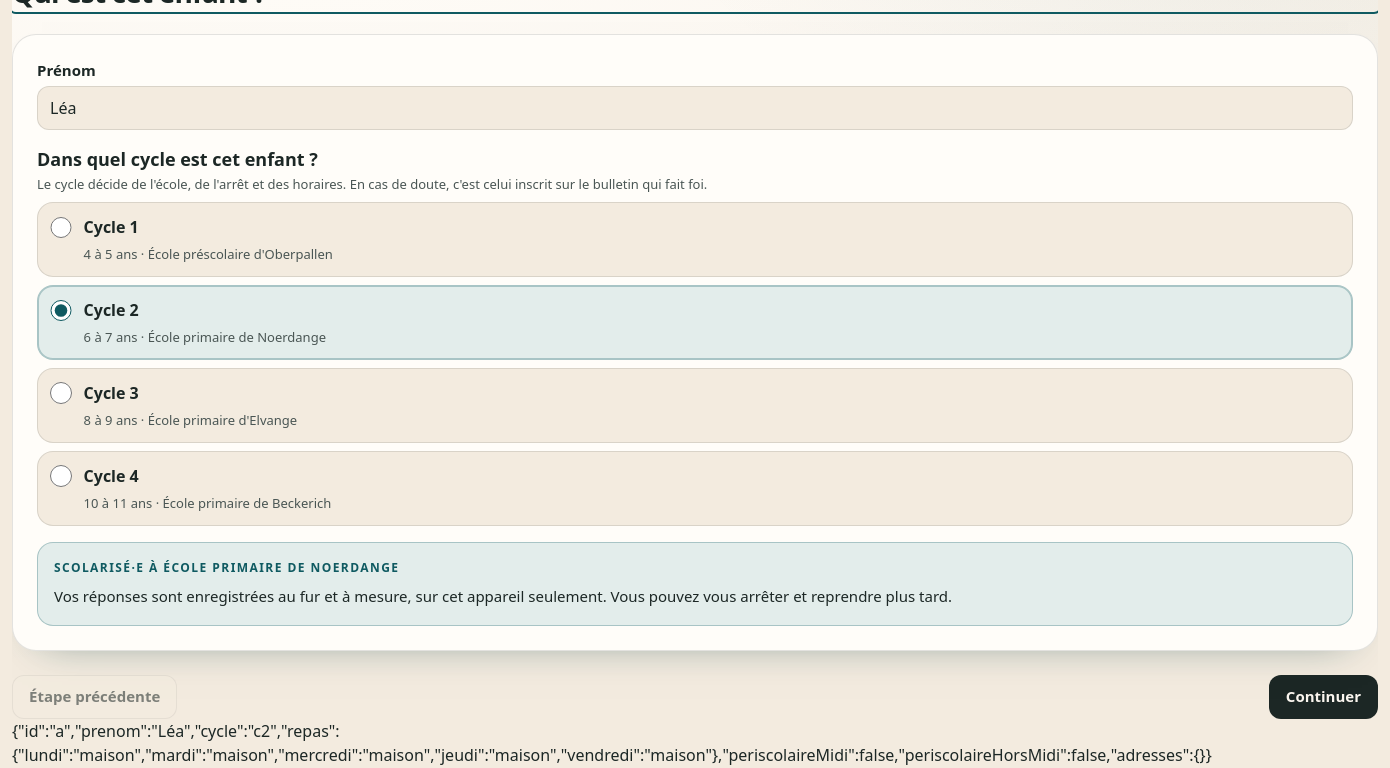
it: forme du parcours › récapitule les réponses avant les trajets, et ne répète pas les actions de la fiche
This screenshot has width=1390, height=768.
(page scrolled)
Click the button "Continuer". click: click(1323, 697)
box: top-left (1269, 675), bottom-right (1378, 719)
(page scrolled)
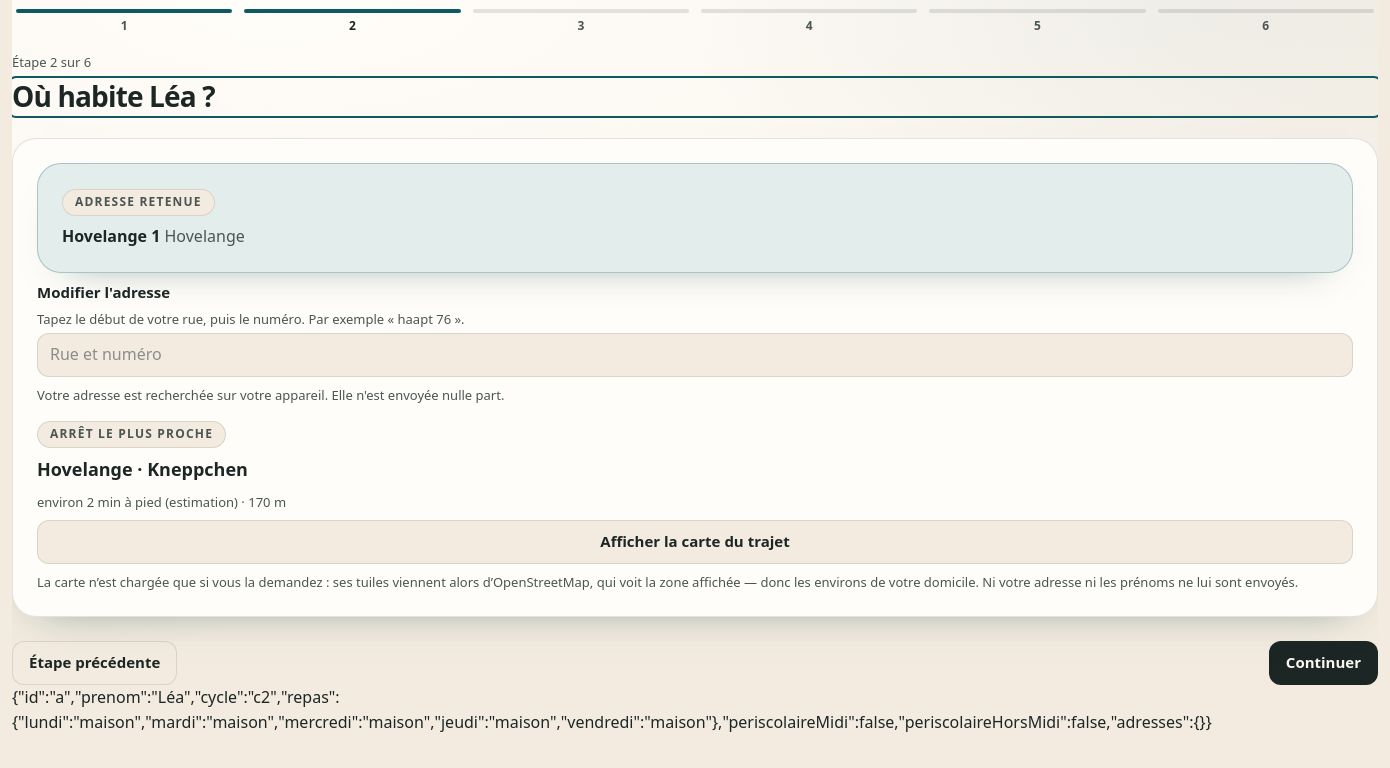
Click the button "Continuer". click: click(1323, 663)
box: top-left (1269, 641), bottom-right (1378, 685)
(page scrolled)
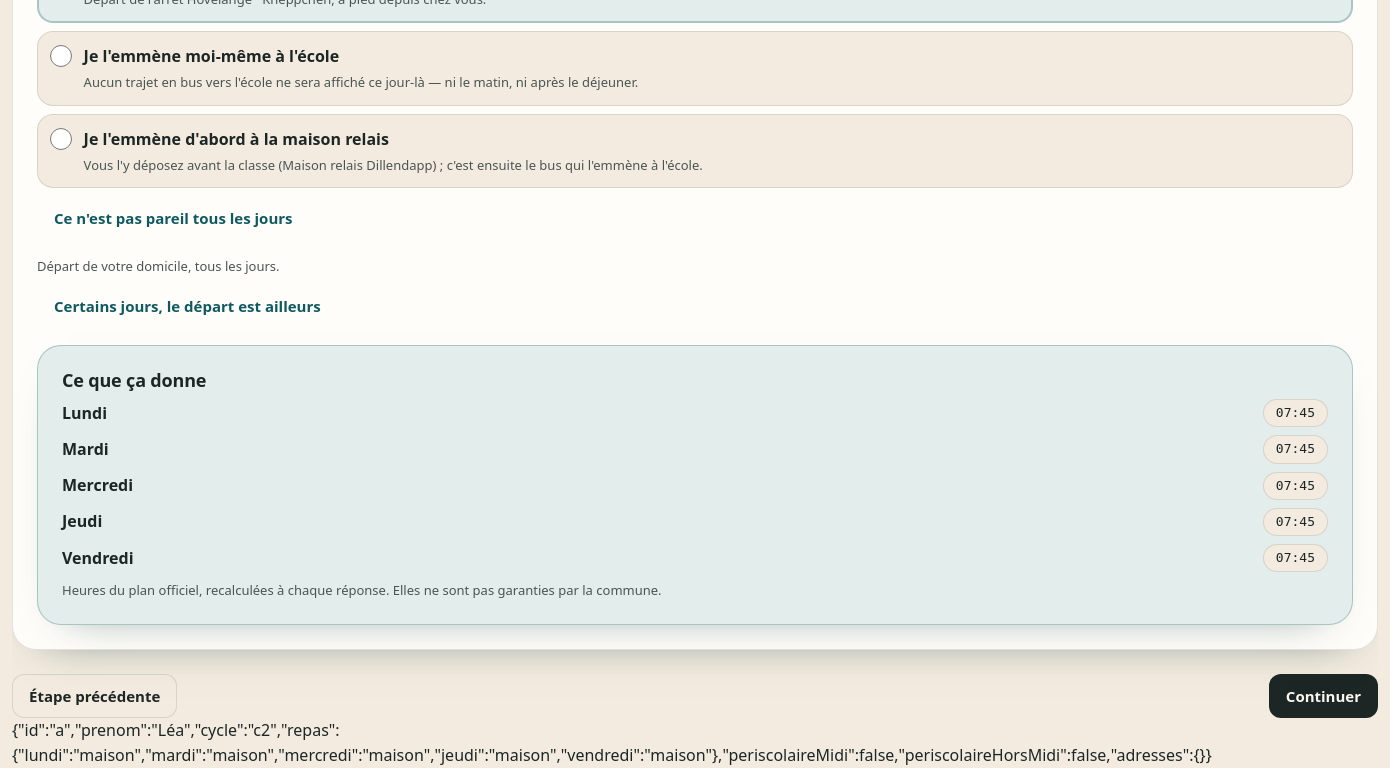
Click the button "Continuer". click: click(1323, 696)
box: top-left (1269, 674), bottom-right (1378, 718)
(page scrolled)
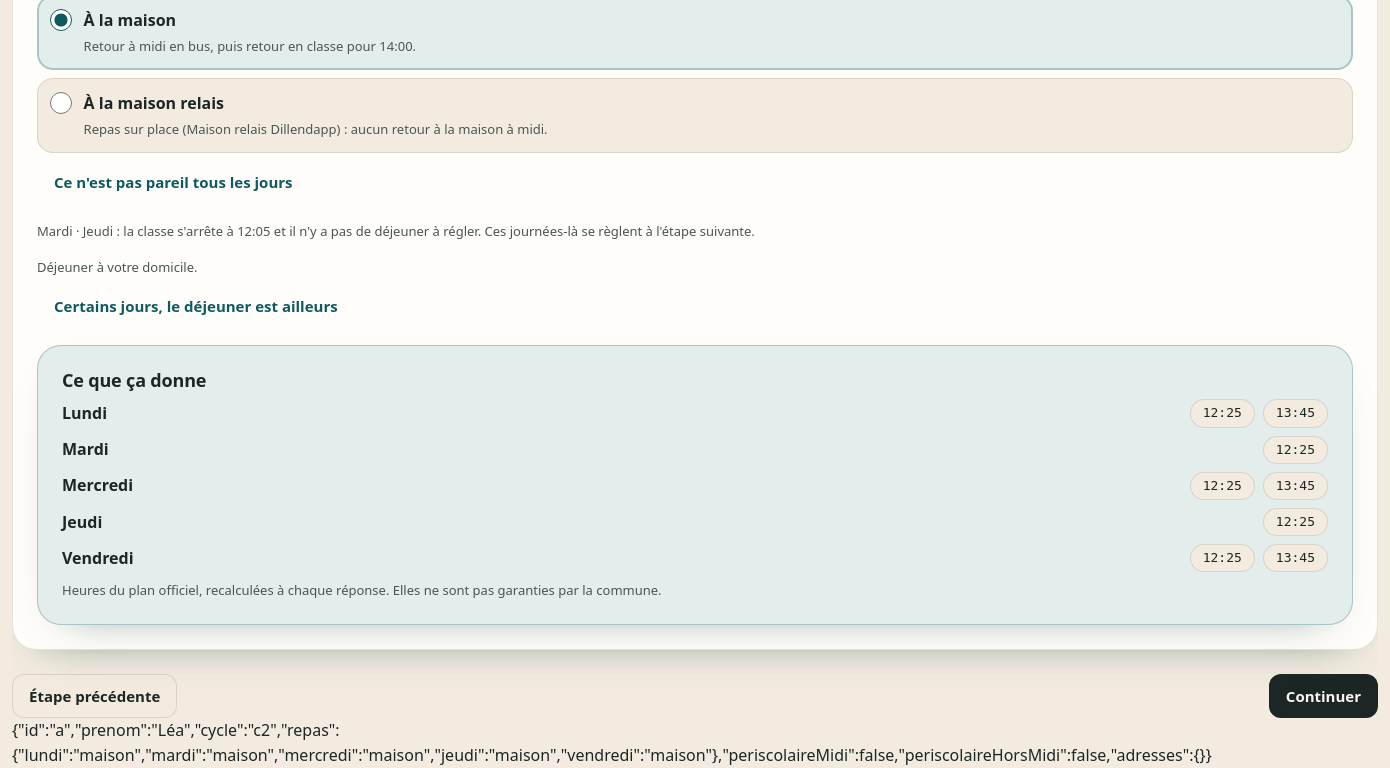
Click the button "Continuer". click: click(1323, 696)
box: top-left (1269, 674), bottom-right (1378, 718)
(page scrolled)
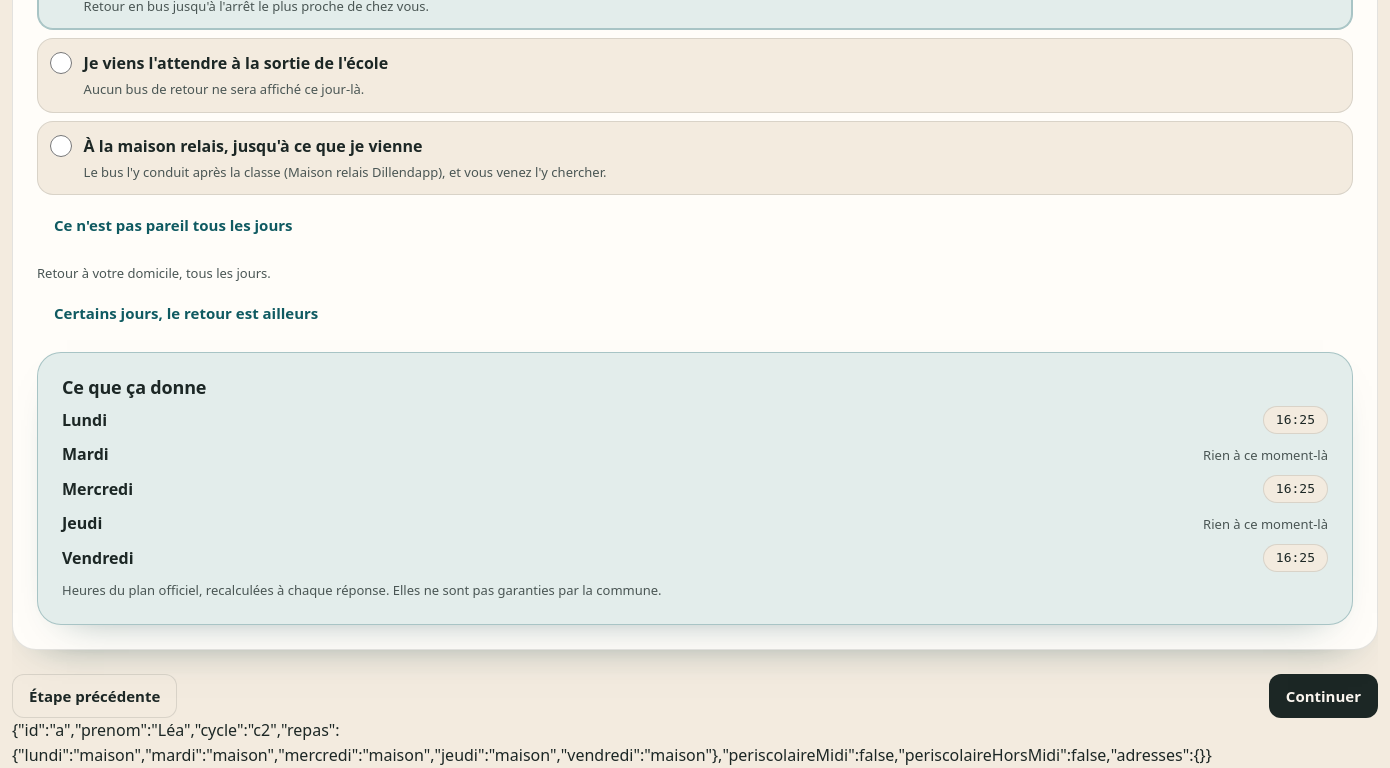
Click the button "Continuer". click: click(1323, 696)
box: top-left (1269, 674), bottom-right (1378, 718)
(page scrolled)
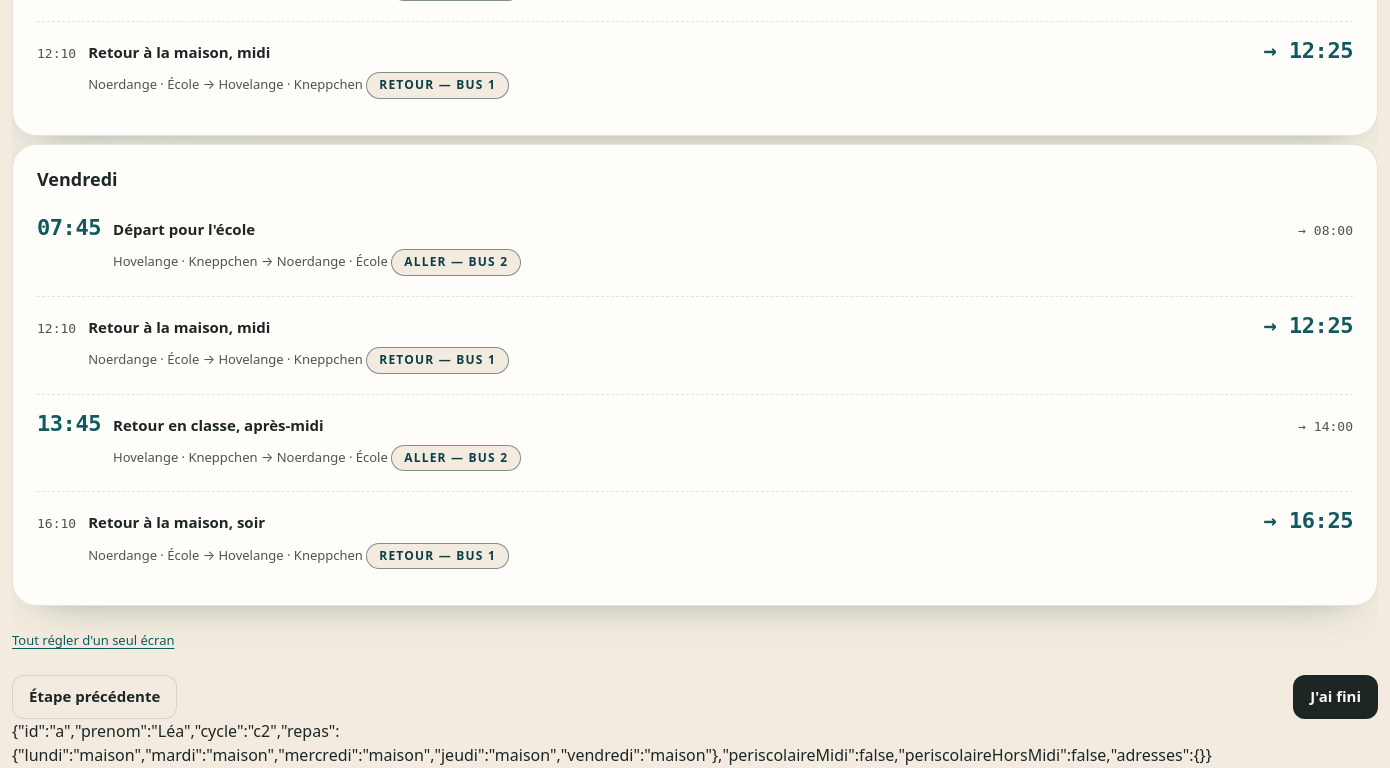
expect the button "J'ai fini" is shown: met, box top-left (1293, 674), bottom-right (1378, 718)
